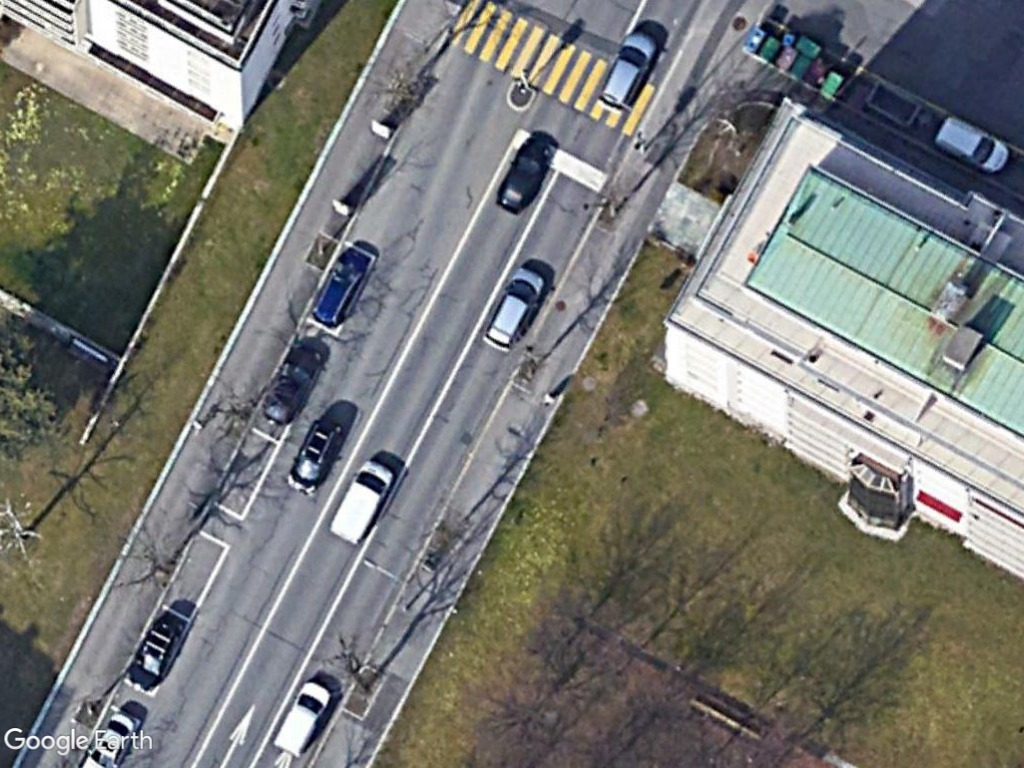car: (480, 265, 545, 357), (268, 678, 337, 757), (596, 31, 660, 113), (307, 248, 370, 330), (494, 141, 553, 215)
van: (326, 460, 398, 548), (931, 115, 1008, 178)
